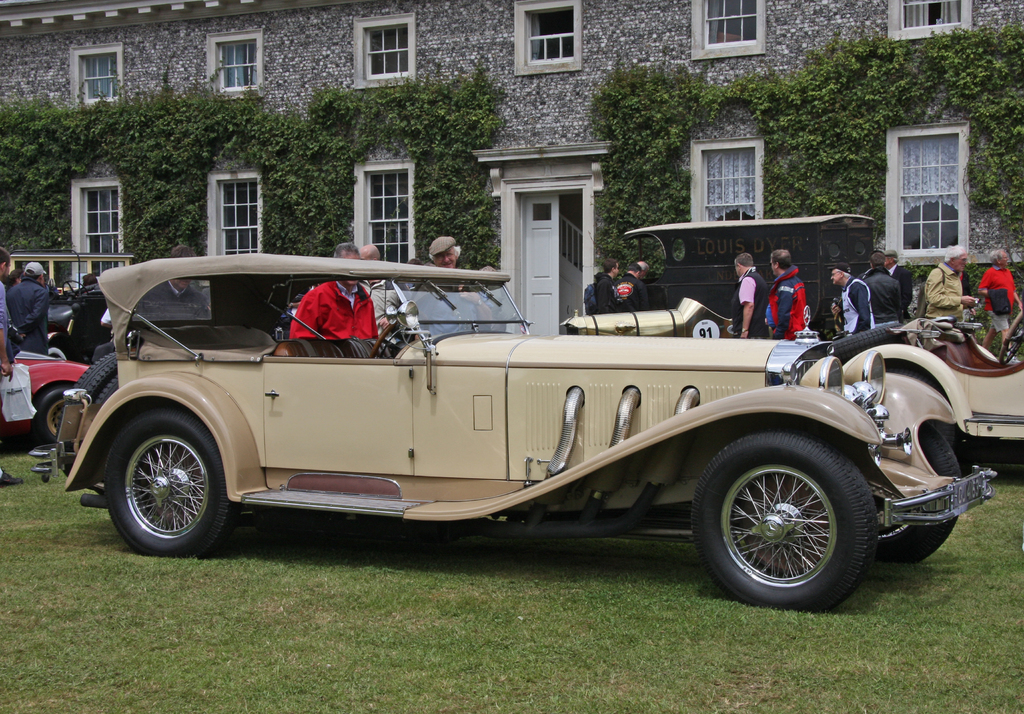Car: (49, 246, 997, 612), (816, 316, 1023, 470)
